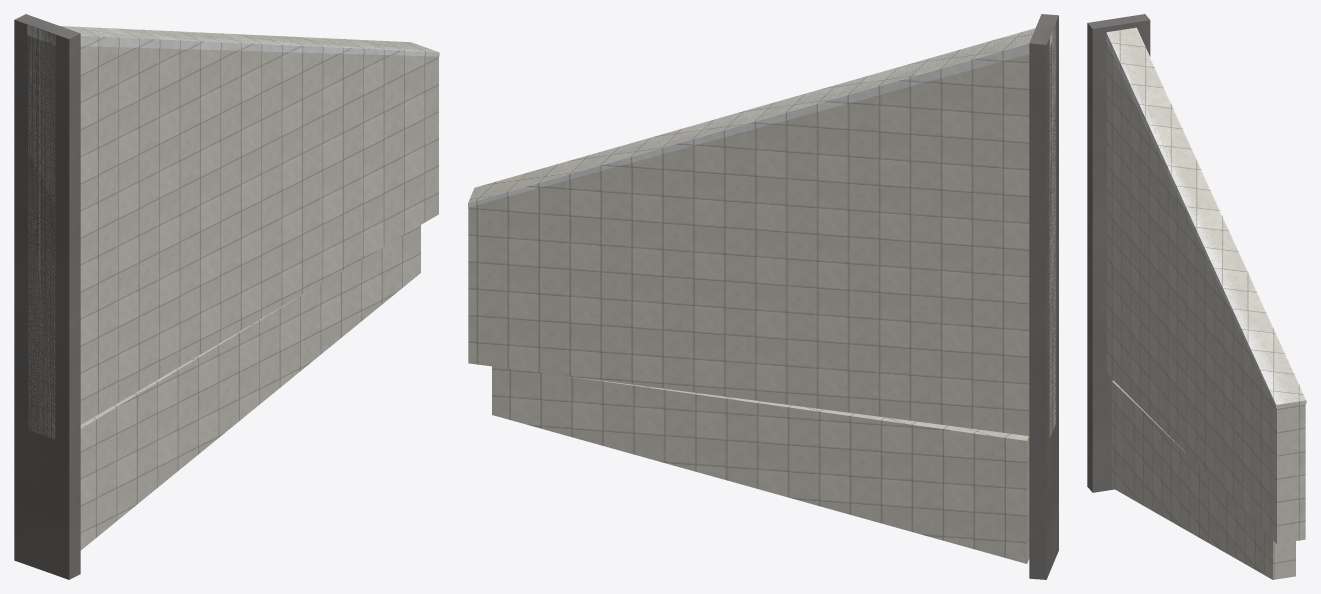
Rendered from aero05_tail_fin_m_canted.glb.
3 renders of one model, left to right at view 1: azimuth 30°, elevation 25°; view 2: azimuth 150°, elevation 25°; view 3: azimuth 270°, elevation 25°, orthographic. The views are drawn at different scales.
Parts seen in each view (by area): view 1: fin, root_flange, surface_rudder, fin_le; view 2: fin, surface_rudder, root_flange, fin_le; view 3: fin, surface_rudder, root_flange, fin_le.
Part boxes in pixels (left/top/right/bottom): fin: left=28, top=25, right=438, bottom=439; root_flange: left=14, top=14, right=80, bottom=579; surface_rudder: left=80, top=225, right=420, bottom=550; fin_le: left=27, top=24, right=439, bottom=56; fin: left=468, top=23, right=1055, bottom=437; surface_rudder: left=492, top=366, right=1029, bottom=563; root_flange: left=1029, top=14, right=1058, bottom=579; fin_le: left=468, top=28, right=1052, bottom=207; fin: left=1107, top=27, right=1305, bottom=543; surface_rudder: left=1111, top=380, right=1295, bottom=579; root_flange: left=1087, top=14, right=1150, bottom=492; fin_le: left=1106, top=27, right=1306, bottom=408.
Bounding box in the file's own units: 2.91 × 3 × 1.28.
Materials: 3 (3 with a texture image).
